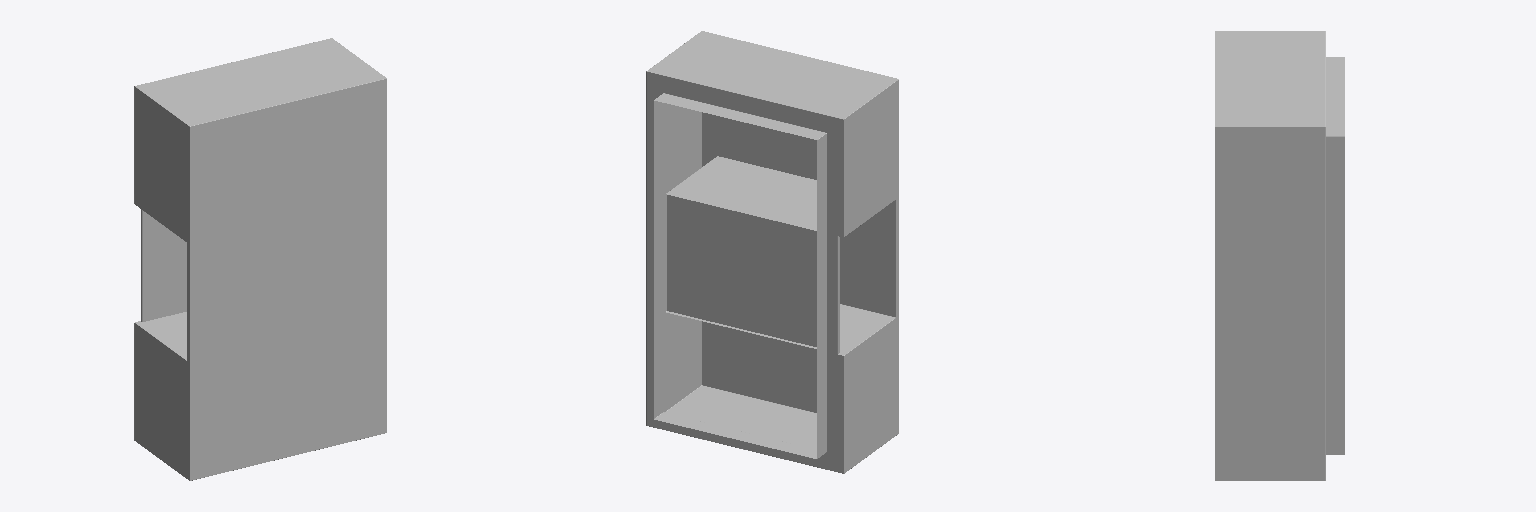
File: SM_Couchtisch_002.obj
The picture shows the model from 3 angles: view 1: azimuth 30°, elevation 25°; view 2: azimuth 150°, elevation 25°; view 3: azimuth 270°, elevation 25°; orthographic projection.
Visible parts, largest first — view 1: SM_Couchtisch_002; view 2: SM_Couchtisch_002; view 3: SM_Couchtisch_002.
Boxes of the visible parts, x1,y1,x2,y2 form: SM_Couchtisch_002: [134, 38, 386, 480]; SM_Couchtisch_002: [646, 31, 898, 473]; SM_Couchtisch_002: [1215, 31, 1344, 480].
Size of the model in its own units: 0.7 by 1.2 by 0.4.